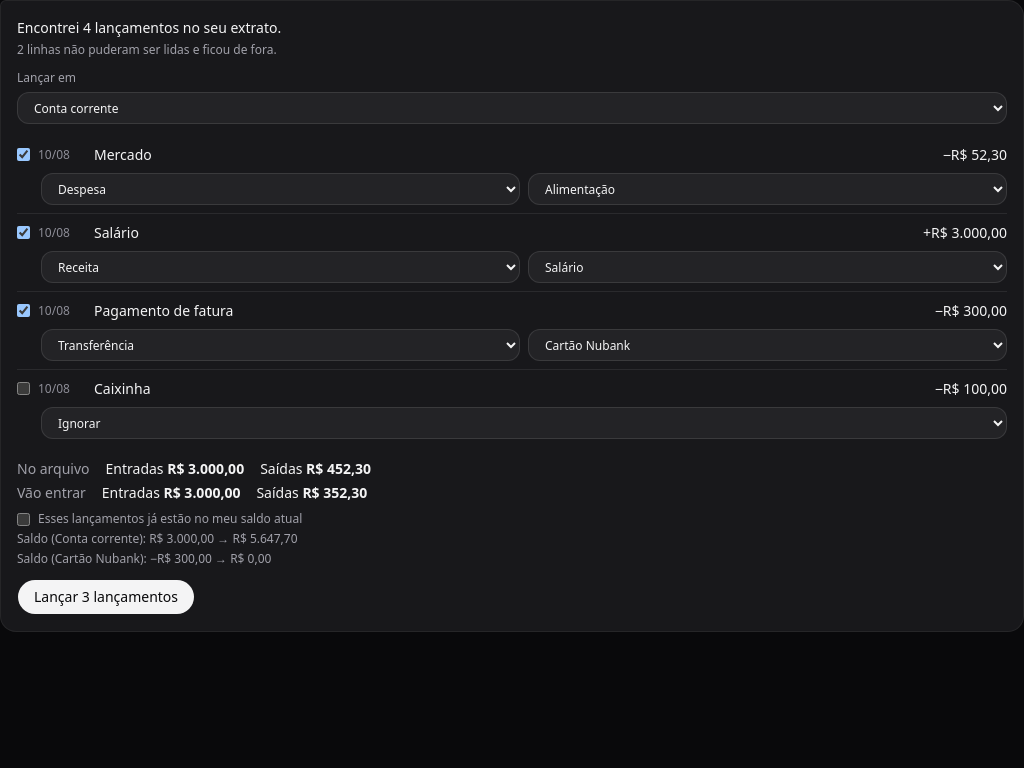
Test: RevisaoImportacao › desmarcar uma linha atualiza os totais
Step 1. Click the checkbox named "Incluir Mercado" → [24, 154], box [17, 148, 30, 161]
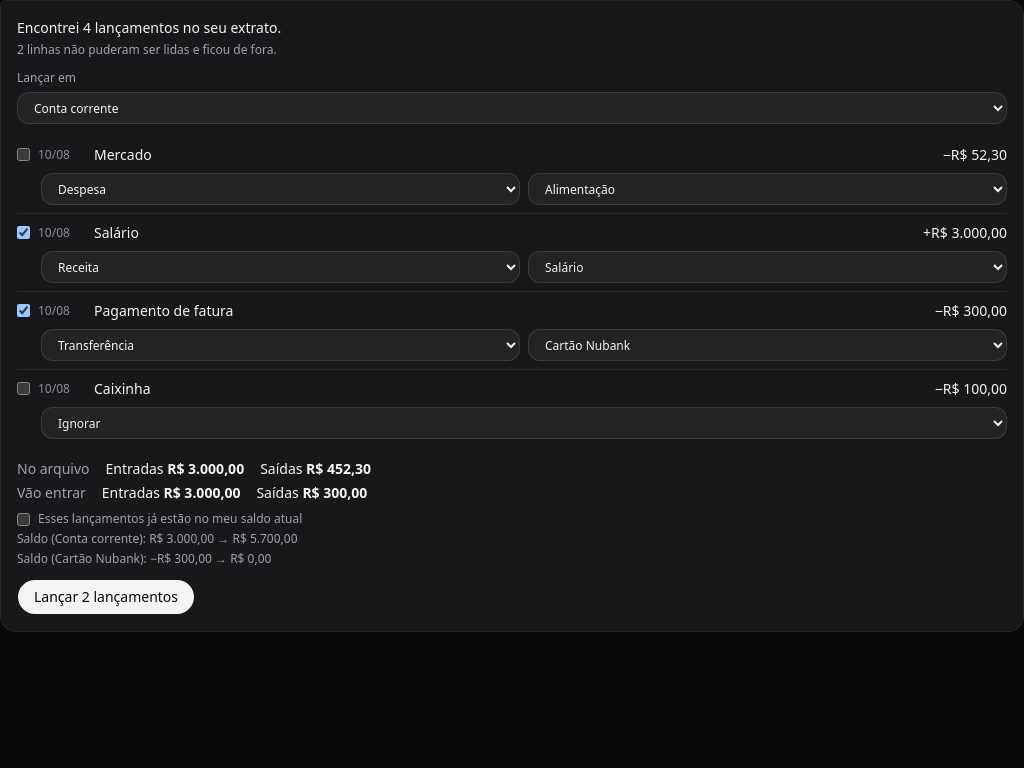
Expected: the text "R$ 300,00" is shown, [302, 483, 367, 502]
